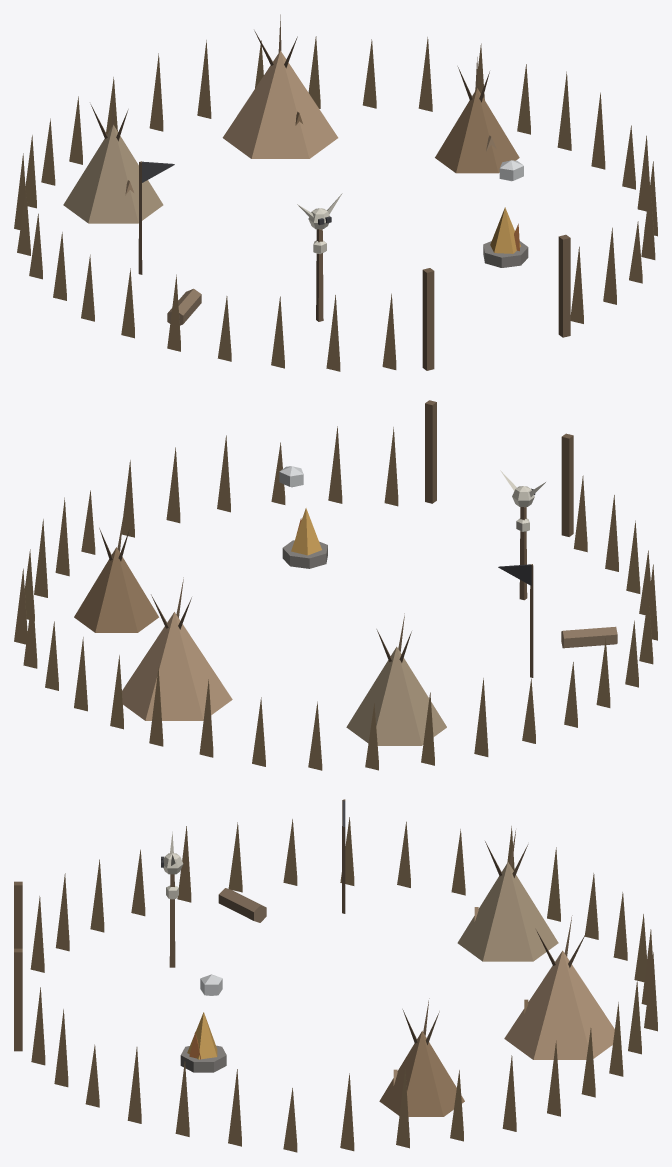
The model's file is encampment.glb.
The picture shows the model from 3 angles, top to bottom: view 1: azimuth 30°, elevation 25°; view 2: azimuth 150°, elevation 25°; view 3: azimuth 270°, elevation 25°; orthographic projection.
Parts seen in each view (by area): view 1: LOD0; view 2: LOD0; view 3: LOD0.
Boxes of the visible parts, x1,y1,x2,y2 form: LOD0: (14, 14, 657, 371); LOD0: (14, 400, 657, 770); LOD0: (14, 799, 657, 1152).
Size of what is drawn, in the model's own units: 1.66 by 0.35 by 1.65.
